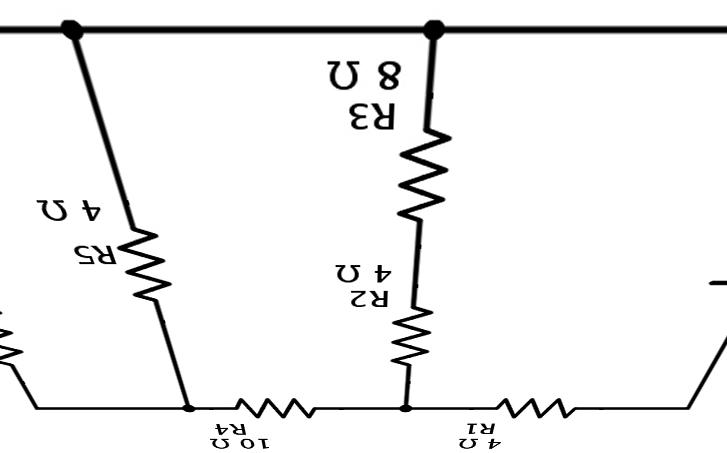resistor: (392, 127, 462, 229), (379, 294, 452, 376), (118, 210, 163, 322), (213, 388, 341, 423), (491, 379, 585, 417)
